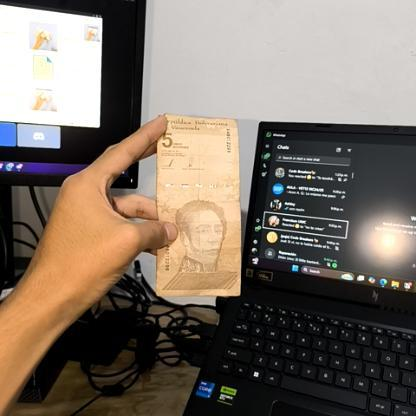five-front-vef: (155, 115, 241, 298)
